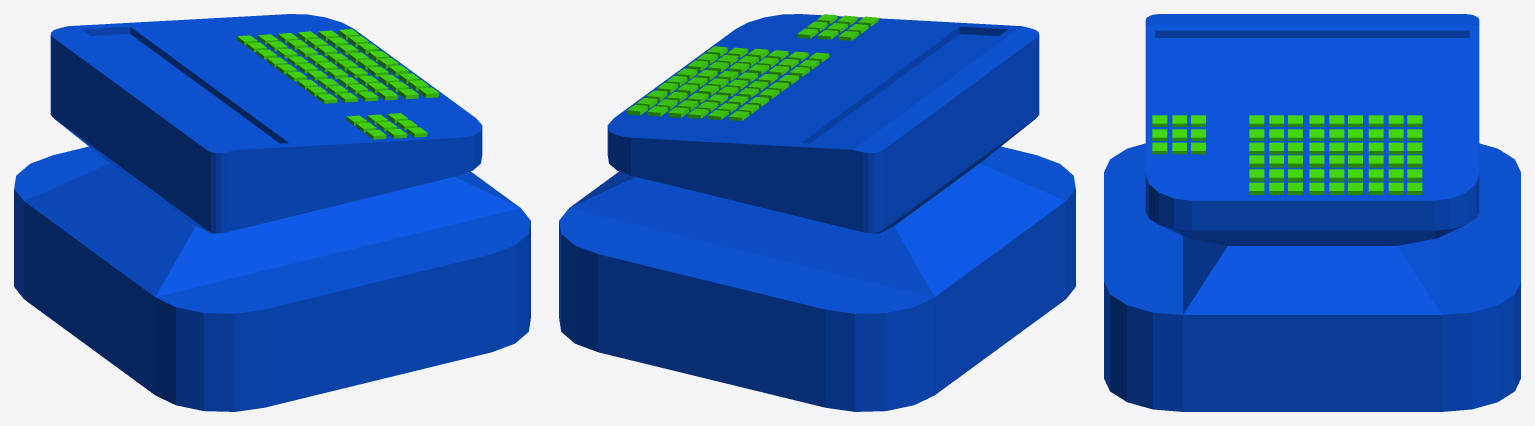
File: RashCegister.fbx
3 views of the same model, side by side, from view 1: azimuth 30°, elevation 25°; view 2: azimuth 150°, elevation 25°; view 3: azimuth 270°, elevation 25° (orthographic).
Visible parts, largest first — view 1: Cube; view 2: Cube; view 3: Cube.
Part boxes in pixels (x1,y1,x2,y2): Cube: (14,14,530,411); Cube: (559,14,1075,411); Cube: (1104,14,1520,411).
Size of the model in its own units: 200 by 128 by 200.
